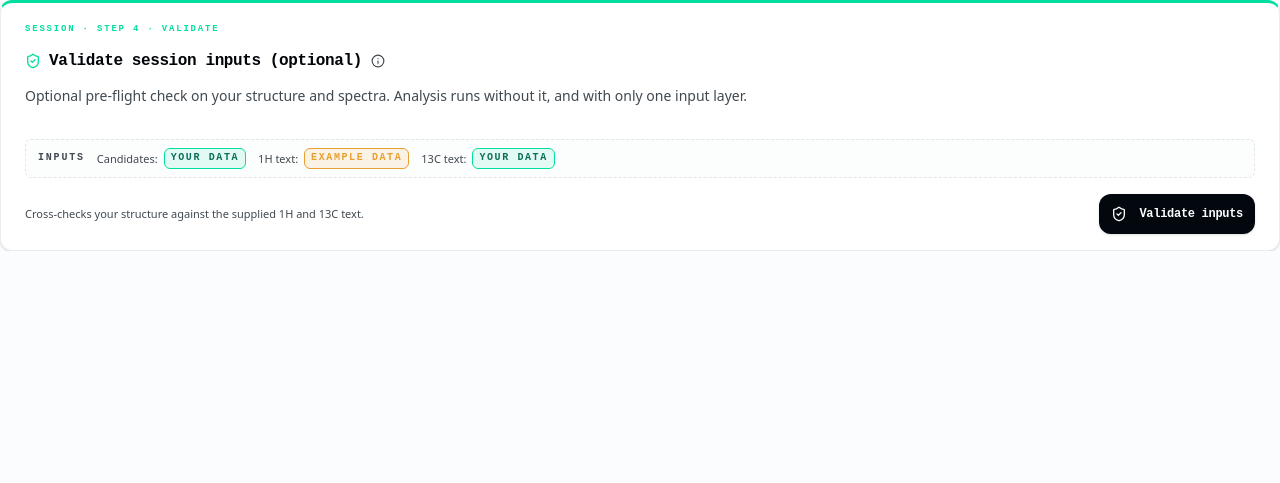
Test: SessionValidateCard — 13C NMR layer › renders the 13C layer chips + carbon summary when 13C is supplied and matches
Click the button with test id "session-validate-button". click: coordinates (1177, 214)
box: [1100,194,1255,234]
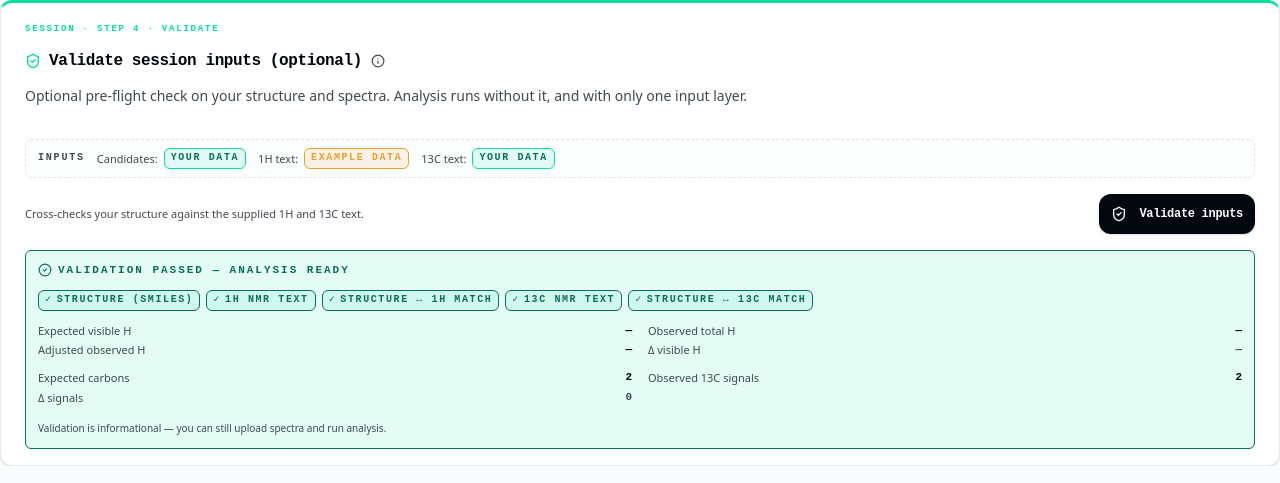
Expected: the element with test id "session-validate-result" is shown, [25,250,1255,449]
Expected: the element with test id "session-validate-carbon13-summary" shows "Expected carbons", [38,370,130,385]
